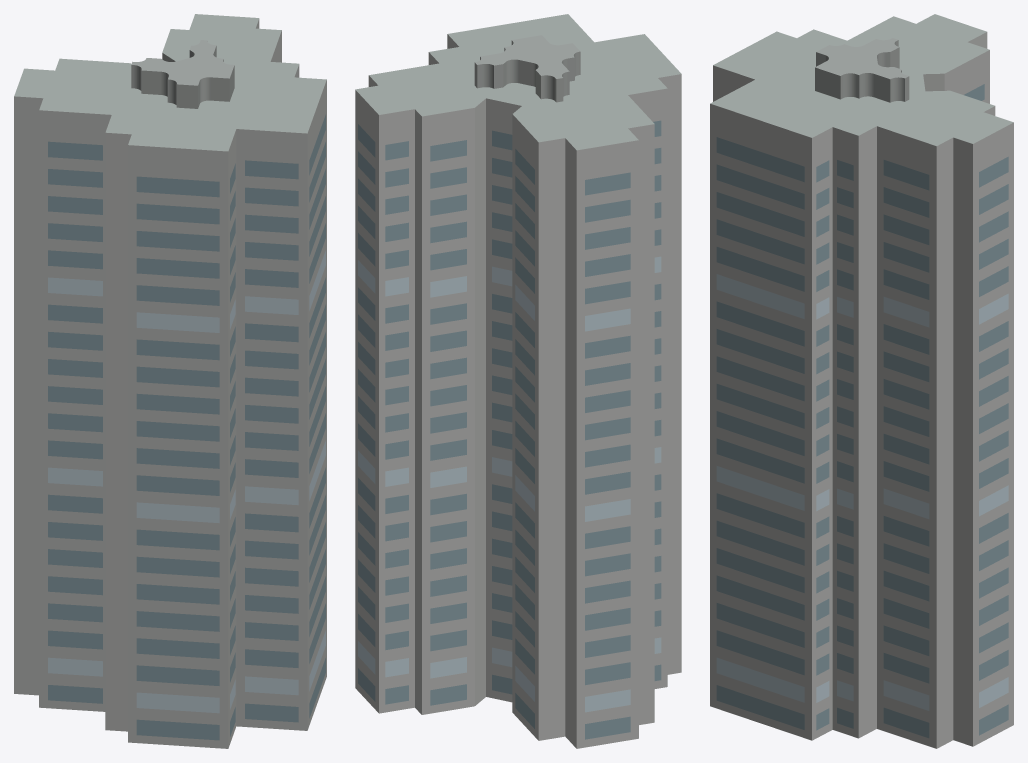
Rendered from fallback-mapo-raemian-prugio-106.glb.
3 views of the same model, side by side, from view 1: azimuth 30°, elevation 25°; view 2: azimuth 150°, elevation 25°; view 3: azimuth 270°, elevation 25° (orthographic).
Visible parts, largest first — view 1: fallback-mapo-raemian-prugio-106; view 2: fallback-mapo-raemian-prugio-106; view 3: fallback-mapo-raemian-prugio-106.
Boxes of the visible parts, x1,y1,x2,y2 form: fallback-mapo-raemian-prugio-106: (14, 14, 326, 748); fallback-mapo-raemian-prugio-106: (355, 14, 681, 748); fallback-mapo-raemian-prugio-106: (710, 14, 1013, 748).
Size of the model in its own units: 28.99 by 64 by 28.14.
